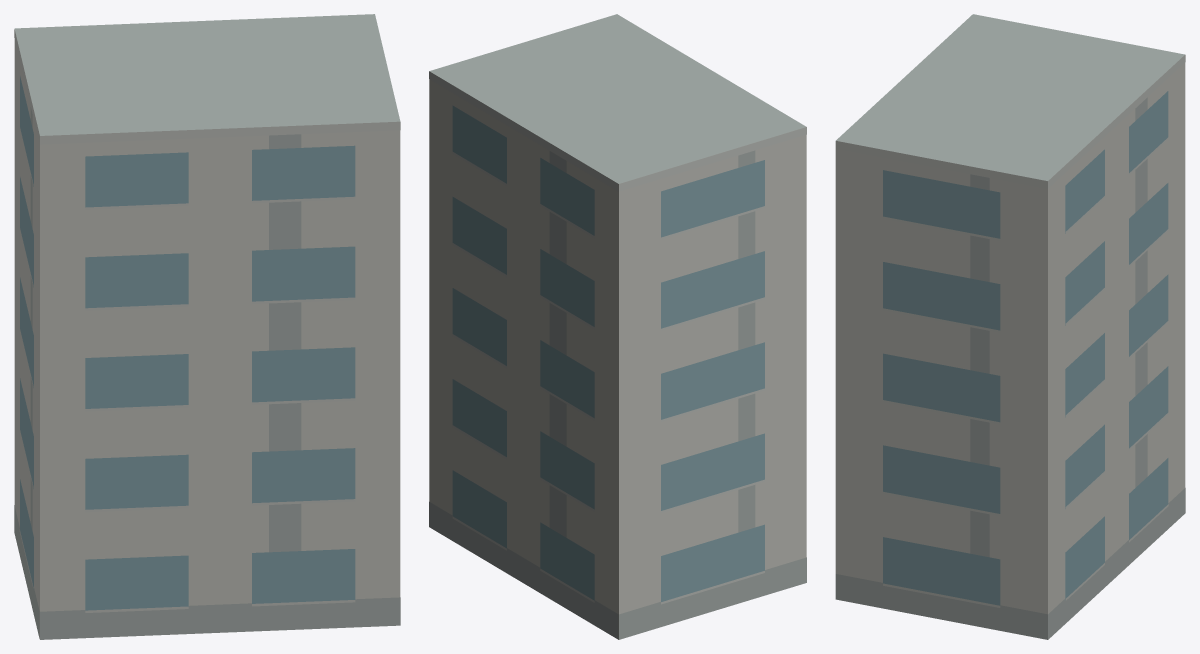
File: survey-upis-32901846.glb
The picture shows the model from 3 angles, left to right: view 1: azimuth 30°, elevation 25°; view 2: azimuth 150°, elevation 25°; view 3: azimuth 270°, elevation 25°; orthographic projection. The views are drawn at different scales.
Parts seen in each view (by area): view 1: survey-upis-32901846.tmp; view 2: survey-upis-32901846.tmp; view 3: survey-upis-32901846.tmp.
Part boxes in pixels (x1,y1,x2,y2): survey-upis-32901846.tmp: (14,14,400,639); survey-upis-32901846.tmp: (429,14,806,639); survey-upis-32901846.tmp: (835,14,1185,639).
Bounding box in the file's own units: 11.11 × 14.2 × 9.82.
